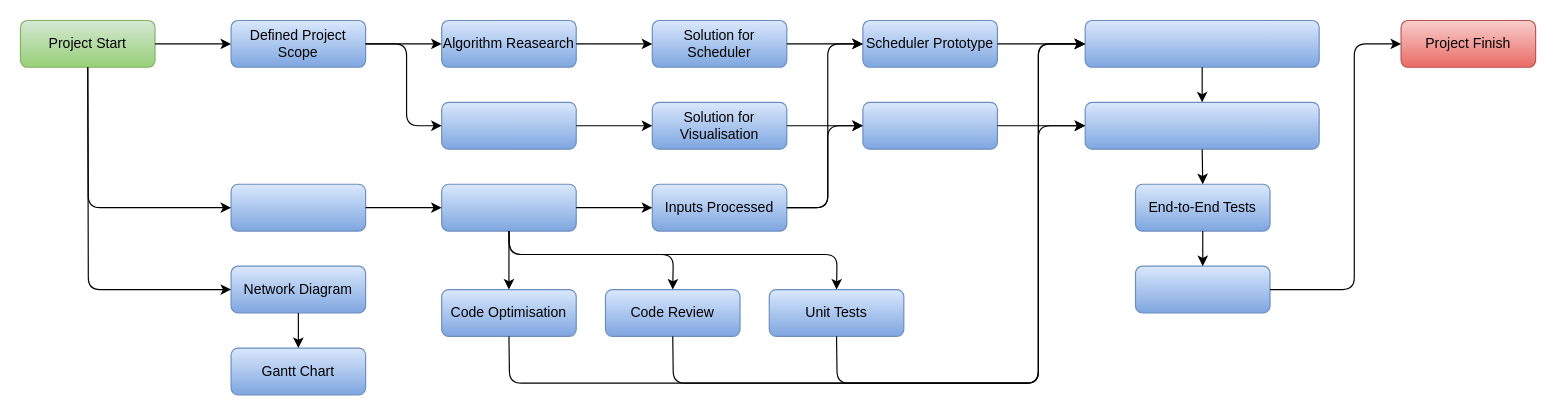
Image size: 1556x415. Some labels were removed from this diagram. Here are the shapes that lost their labels. From the top down, the centre of each, then its label:
At point (1201, 43): "Final Scheduler with Parallelisation and multi-threading".
At point (508, 125): "Visualisation Research".
At point (929, 125): "Graph Visualisation Prototype".
At point (1201, 125): "Final Search Visualisation".
At point (298, 207): "Git Repository".
At point (508, 207): "Task Assignment".
At point (1202, 289): "Report".
